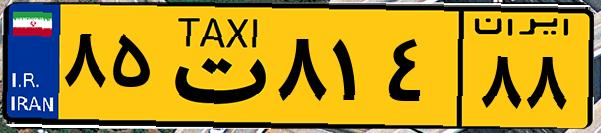1: (330, 28, 385, 110)
4: (385, 28, 445, 110)
5: (110, 28, 158, 98)
8: (270, 28, 330, 110), (57, 26, 110, 100), (475, 38, 525, 113), (525, 38, 570, 115)
ت: (158, 12, 270, 120)
